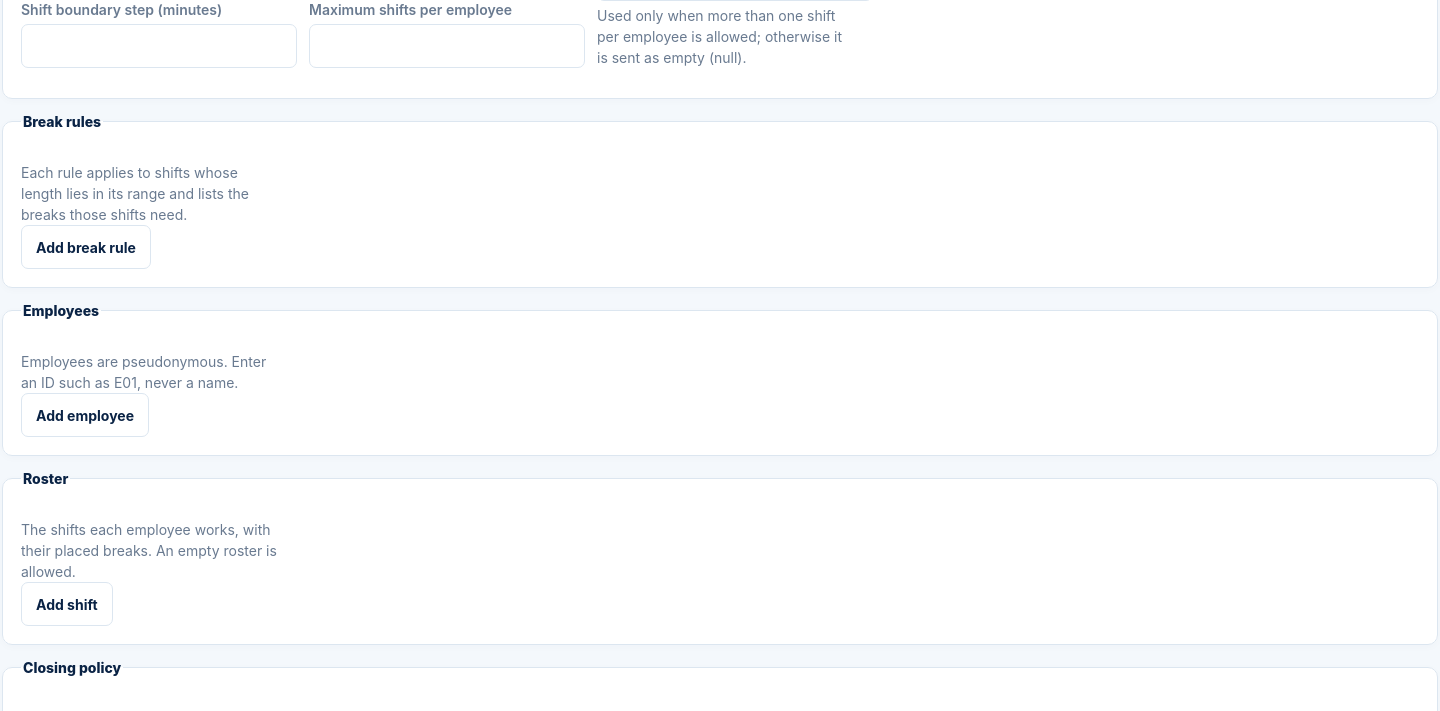
Test: NamedWorkforceForm › has no name field: employees are pseudonymous ids
The width and height of the screenshot is (1440, 711).
(page scrolled)
Click the button "Add employee" at point(85, 415), box [21, 393, 149, 437]
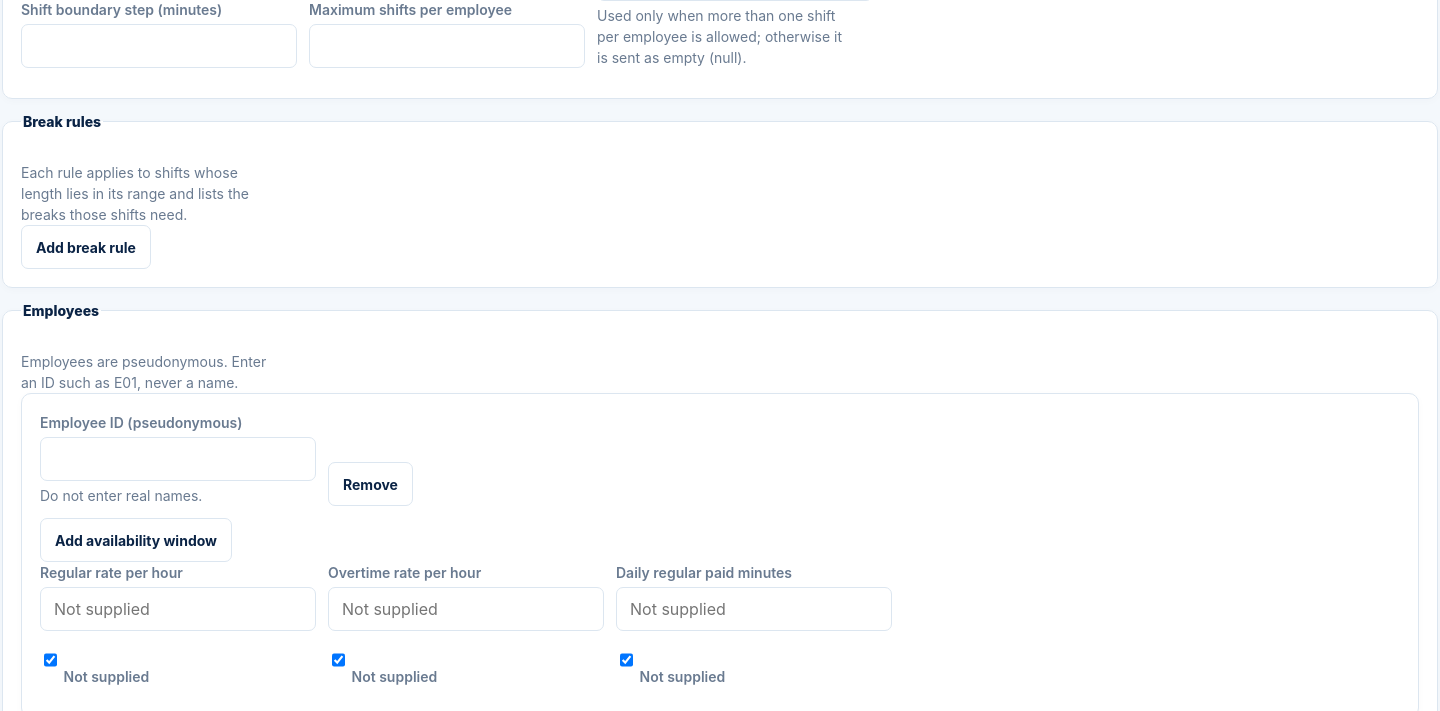
Now the field labelled "Employee ID (pseudonymous)" is shown, box [40, 437, 316, 481]
Now the text "Do not enter real names." is shown, box [40, 487, 202, 504]
